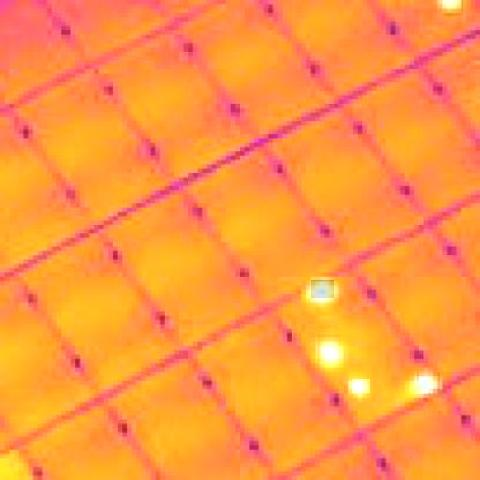fault: (318, 334, 340, 362), (311, 280, 334, 298), (417, 372, 440, 390), (443, 0, 463, 16), (352, 379, 370, 393)
